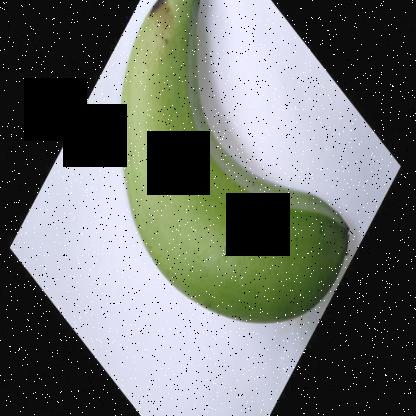freshunripe: (100, 0, 356, 325)
